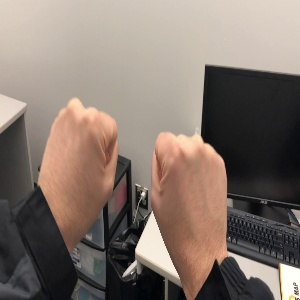hand: (38, 97, 119, 219), (151, 130, 227, 243)
